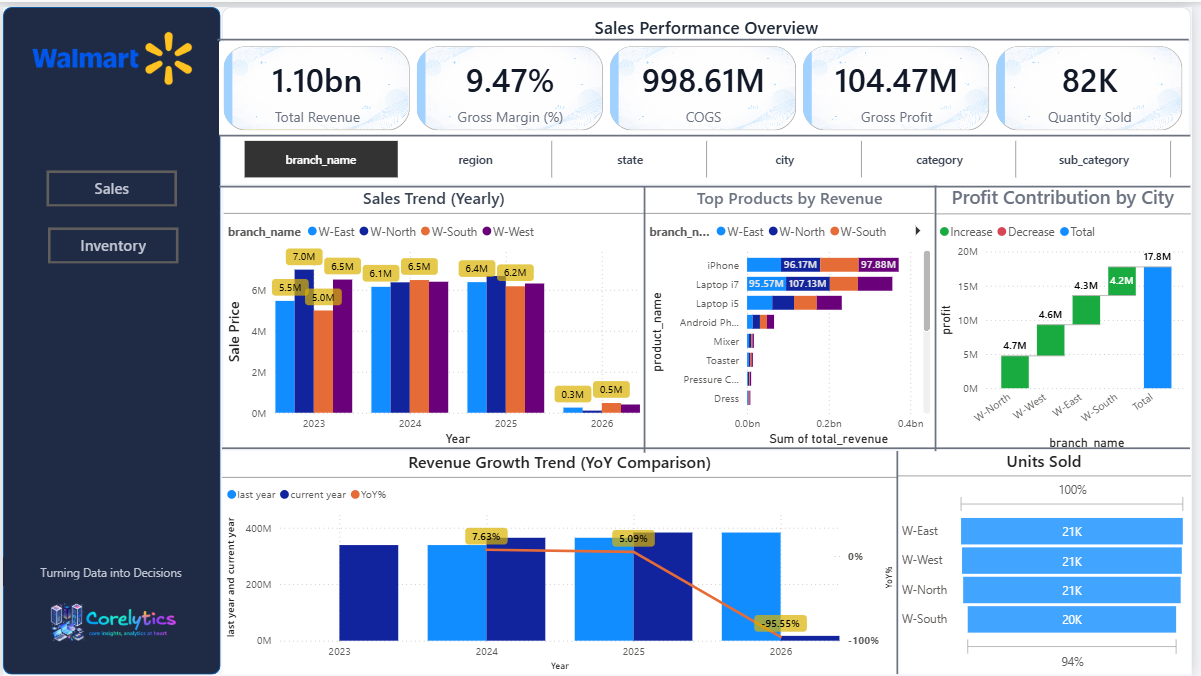

What the dashboard file says about the page in this screenshot:
{"tool":"powerbi","page":{"name":"Sales Performance","canvas":[1366,768],"ordinal":0},"visuals":[{"type":"shape","box":[0,0,250,767.2],"z":0},{"type":"image","box":[1.7,650,250,117.2],"z":1000},{"type":"actionButton","box":[50,184.5,150,44.8],"z":3000},{"type":"actionButton","box":[51.7,250,150,44.8],"z":4000},{"type":"image","box":[0,0,250,117.2],"z":8000},{"type":"shape","box":[0,632.8,248.3,32.8],"z":9000},{"type":"shape","box":[251.7,0,1113.8,45],"z":10000},{"type":"slicer","fields":{"Values":["Parameter.Parameter"]},"box":[250.9,147.3,1114.5,56.4],"z":11000},{"type":"cardVisual","fields":{"Data":["Sum(retail_dw fact_sales.total_revenue)","retail_dw fact_sales.GROSS MARGIN %","retail_dw fact_sales.COGS","retail_dw fact_sales.GROSS PROFIT","Sum(retail_dw fact_sales.quantity_sold)"]},"box":[249.1,40,1114.5,107.3],"z":12000},{"type":"barChart","title":"Top Products by Revenue","fields":{"Series":["retail_dw dim_branch.branch_name"],"Category":["retail_dw dim_product.product_name"],"Y":["Sum(retail_dw fact_sales.total_revenue)"]},"box":[738.2,207.3,332.7,301.8],"z":13000},{"type":"lineClusteredColumnComboChart","title":"Sales Trend (Yearly)","fields":{"Series":["retail_dw dim_branch.branch_name"],"Category":["retail_dw dim_date.date_id.Variation.Date Hierarchy.Year"],"Y":["Sum(retail_dw fact_sales.sale_price)"]},"box":[252.7,207.3,483.6,301.8],"z":14000},{"type":"waterfallChart","title":"Profit Contribution by City","fields":{"Category":["retail_dw dim_branch.branch_name"],"Y":["retail_dw fact_sales.profit"]},"box":[1070.9,203.6,294.5,309.1],"z":15000},{"type":"lineClusteredColumnComboChart","title":"Revenue Growth Trend (YoY Comparison)","fields":{"Category":["retail_dw dim_date.date_id.Variation.Date Hierarchy.Year"],"Y":["retail_dw dim_product.sameperiodyear","Sum(retail_dw fact_sales.total_revenue)"],"Y2":["retail_dw fact_sales.YoY%"]},"box":[250.9,510.9,776.4,256.4],"z":16000},{"type":"funnel","title":"Units Sold","fields":{"Category":["retail_dw dim_branch.branch_name"],"Y":["Sum(retail_dw fact_sales.quantity_sold)"]},"box":[1027.3,509.1,338.2,258.2],"z":17000},{"type":"shape","box":[247.3,29.1,1116.4,16.4],"z":18000},{"type":"shape","box":[249.1,140,1116.4,16.4],"z":19000},{"type":"shape","box":[249.1,198.2,1116.4,16.4],"z":20000},{"type":"shape","box":[250.9,501.8,1112.7,10.9],"z":21000},{"type":"shape","box":[730.9,207.3,12.7,305.5],"z":22000},{"type":"shape","box":[1065.5,205.5,12.7,305.5],"z":23000},{"type":"shape","box":[1020,510.9,14.5,256.4],"z":24000}]}

Visuals, with their boxes in screenshot pixels (x1, y1, x2, y2), scaled from the page's 1366x768 canvas onto the 1201x676 screenshot:
shape: 0 0 220 675
image: 1 572 221 675
actionButton: 44 162 176 202
actionButton: 45 220 177 259
image: 0 0 220 103
shape: 0 557 218 586
shape: 221 0 1200 40
slicer - Parameter.Parameter: 221 130 1200 179
cardVisual - Sum(retail_dw fact_sales.total_revenue) x retail_dw fact_sales.GROSS MARGIN %: 219 35 1199 130
"Top Products by Revenue" barChart: 649 182 942 448
"Sales Trend (Yearly)" lineClusteredColumnComboChart: 222 182 647 448
"Profit Contribution by City" waterfallChart: 942 179 1200 451
"Revenue Growth Trend (YoY Comparison)" lineClusteredColumnComboChart: 221 450 903 675
"Units Sold" funnel: 903 448 1200 675
shape: 217 26 1199 40
shape: 219 123 1200 138
shape: 219 174 1200 189
shape: 221 442 1199 451
shape: 643 182 654 451
shape: 937 181 948 450
shape: 897 450 910 675
